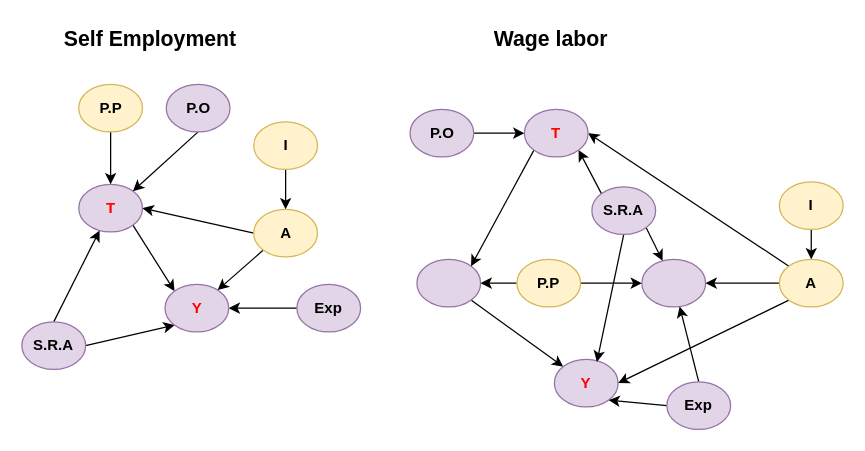
Image size: 865x451. Some labels were removed from this diagram. The centre of each missing label's shape, as x and y in pixels:
"Ind" belongs at point (448, 282).
"J.L" belongs at point (673, 282).
